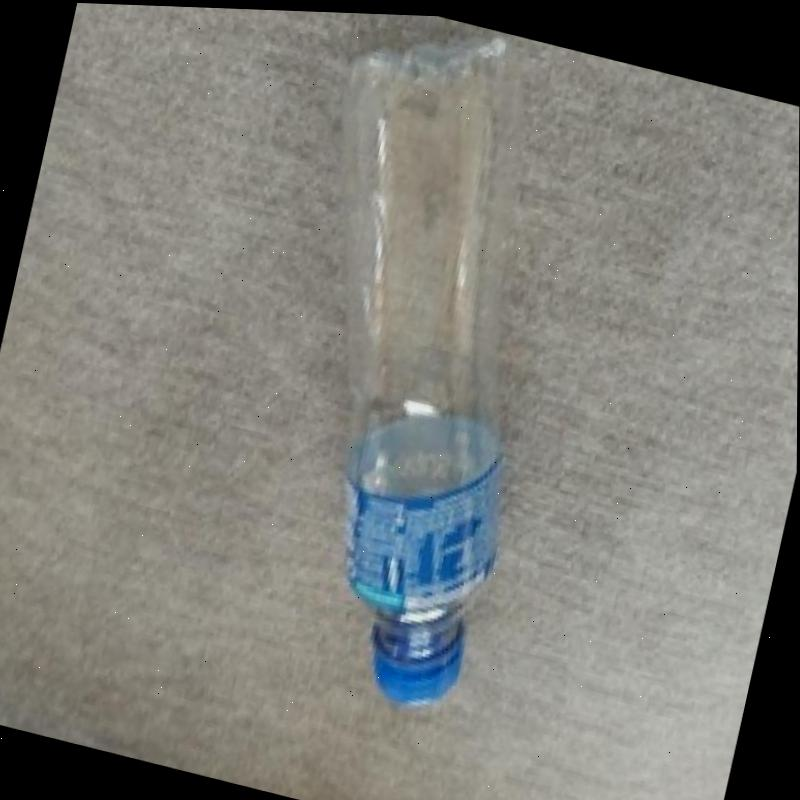botella: (213, 6, 606, 721)
